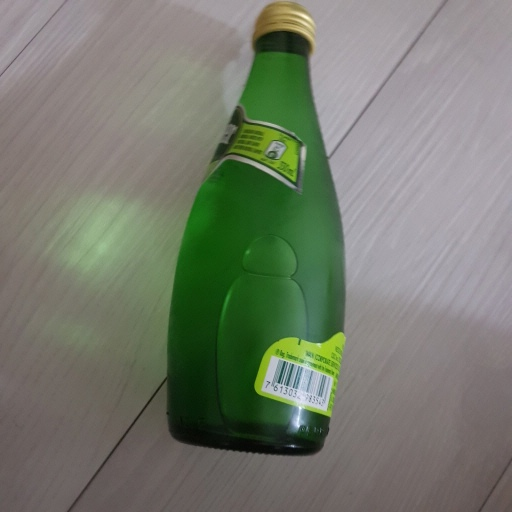Glass_4: (159, 9, 349, 467)
